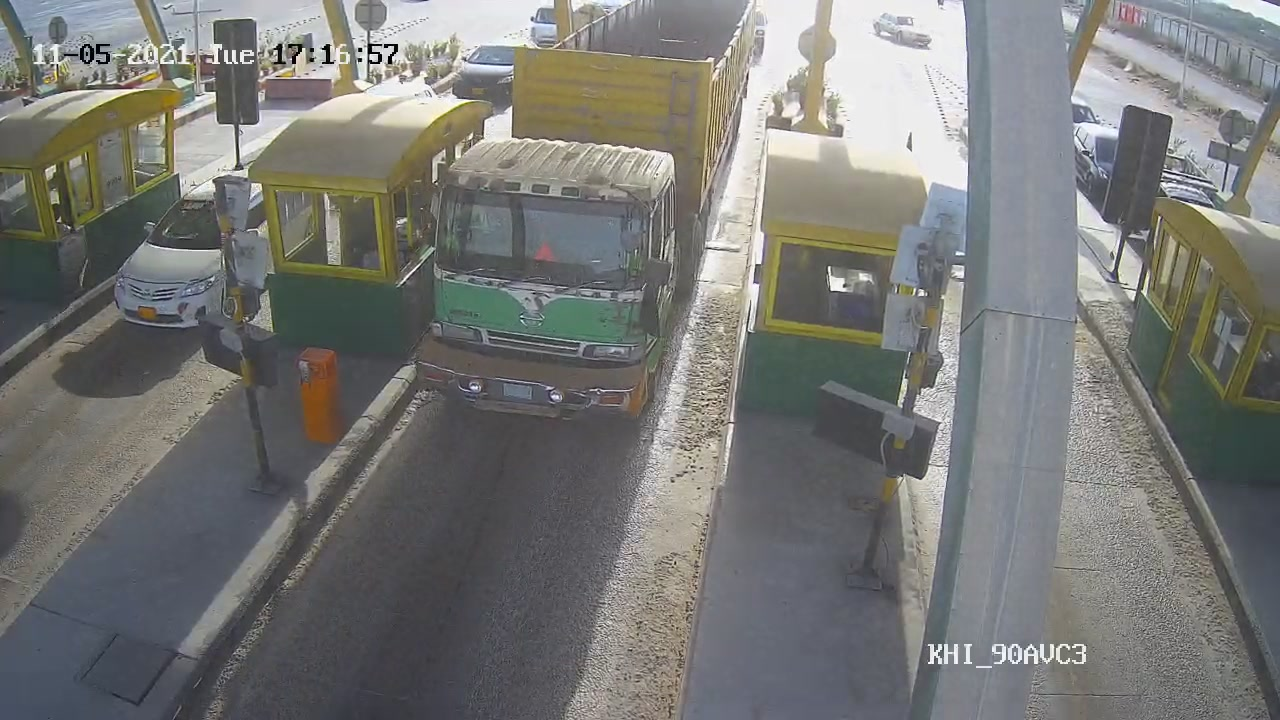F6: (409, 1, 757, 420)
